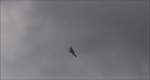maybay_muctieu: (69, 47, 80, 60)
